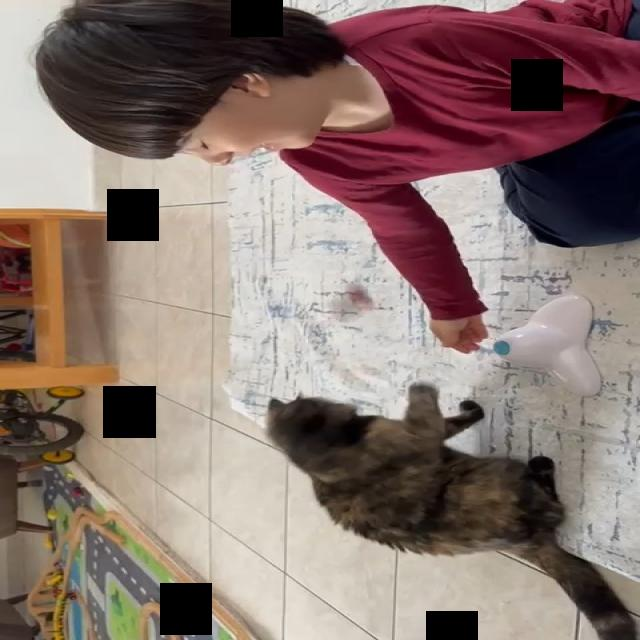authorized: (264, 380, 637, 640)
